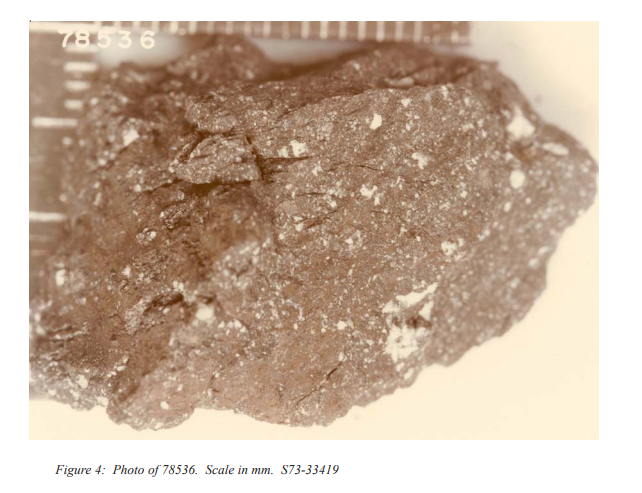Basalt: (64, 52, 587, 424), (212, 184, 452, 324)
